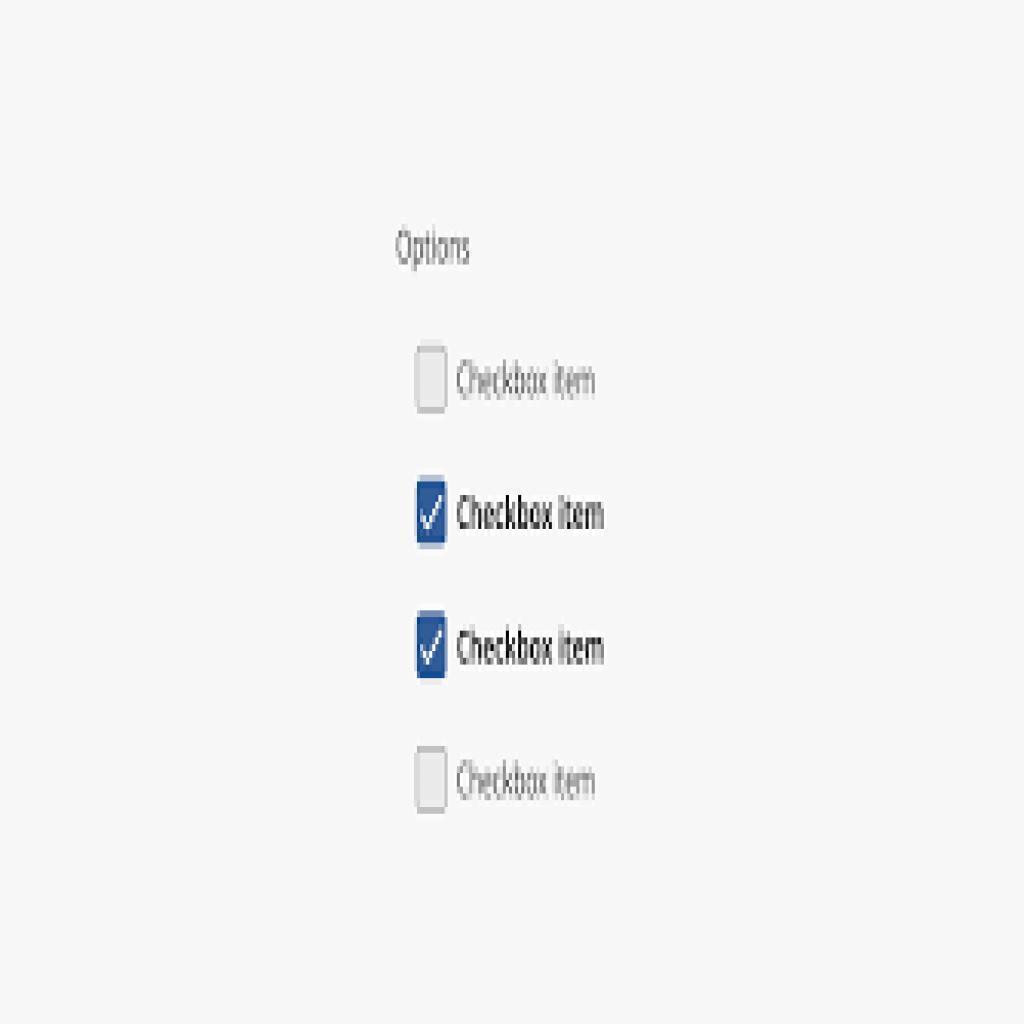checkbox: (415, 349, 449, 415), (415, 611, 447, 679), (418, 481, 448, 551), (418, 749, 447, 815)
